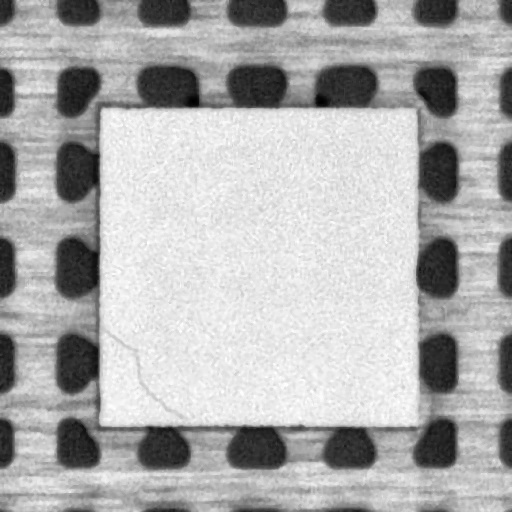DIE_CRACK: (100, 324, 188, 420)
